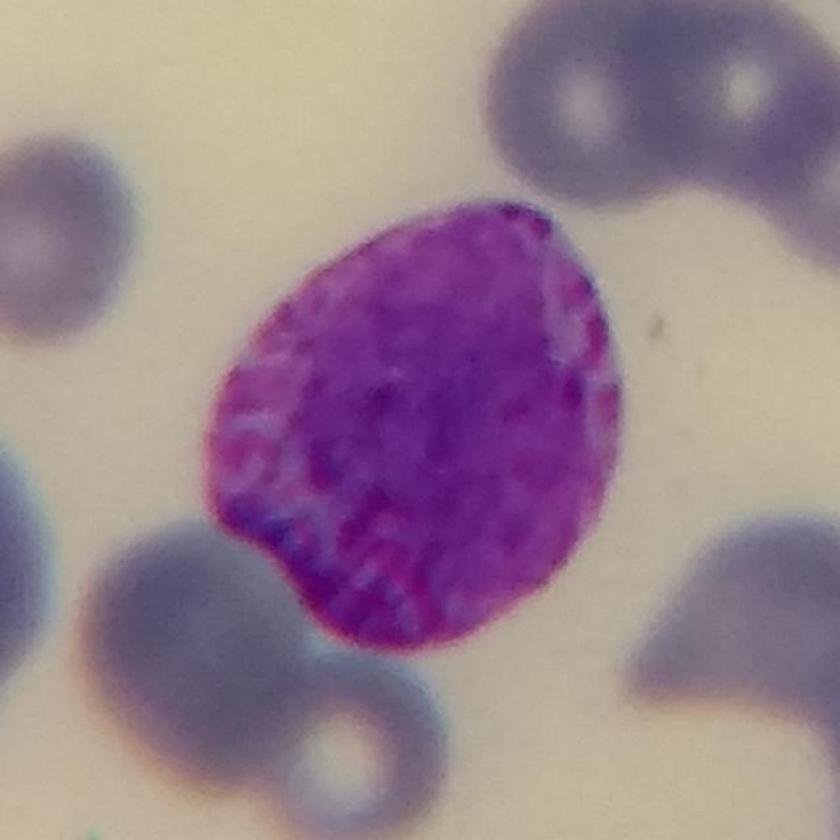basophil: (196, 173, 656, 662)
